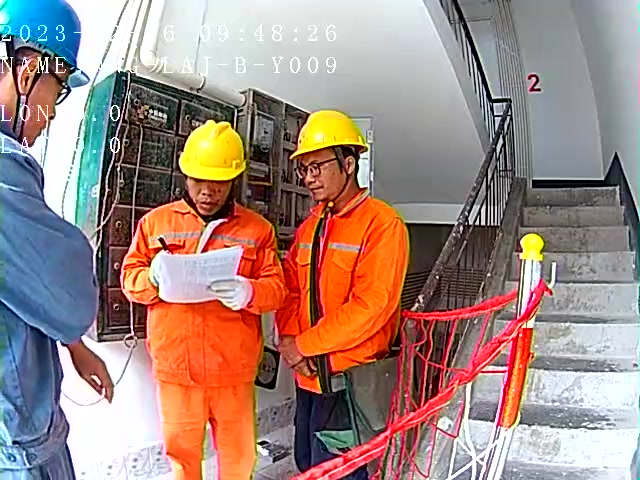downsuit: (291, 372, 369, 480)
halt: (1, 1, 90, 146), (289, 110, 372, 197), (177, 121, 247, 215)
hand: (63, 340, 114, 401), (278, 336, 319, 380)
inear: (1, 34, 50, 122), (329, 146, 362, 187)
person: (120, 119, 289, 480), (1, 1, 115, 480), (271, 108, 413, 480)
upsuit: (1, 131, 99, 444)
wglove: (208, 272, 254, 311), (149, 251, 171, 287)
ydownsuit: (149, 379, 266, 480)
yupsuit: (119, 198, 286, 385), (277, 190, 410, 392)
